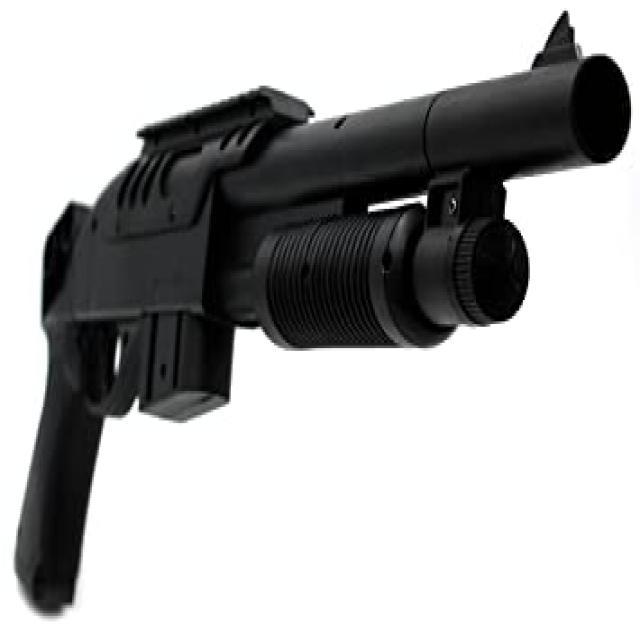shotgun: (1, 9, 632, 640)
